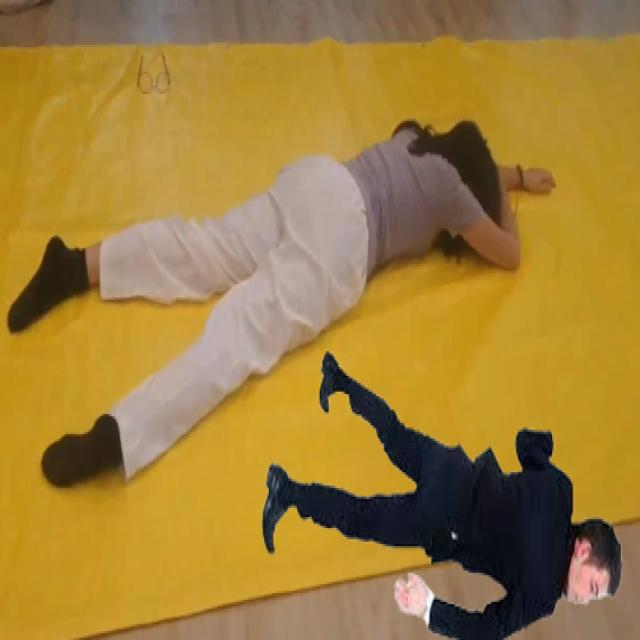layPeople: (6, 119, 556, 492), (261, 360, 623, 640)
